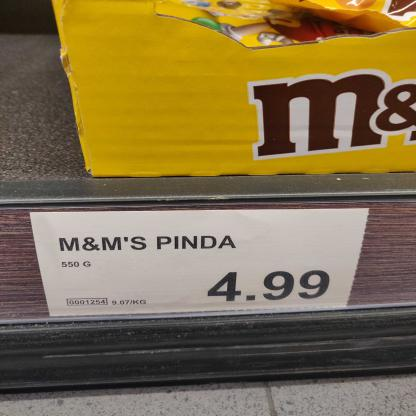prtg: (29, 209, 373, 318)
